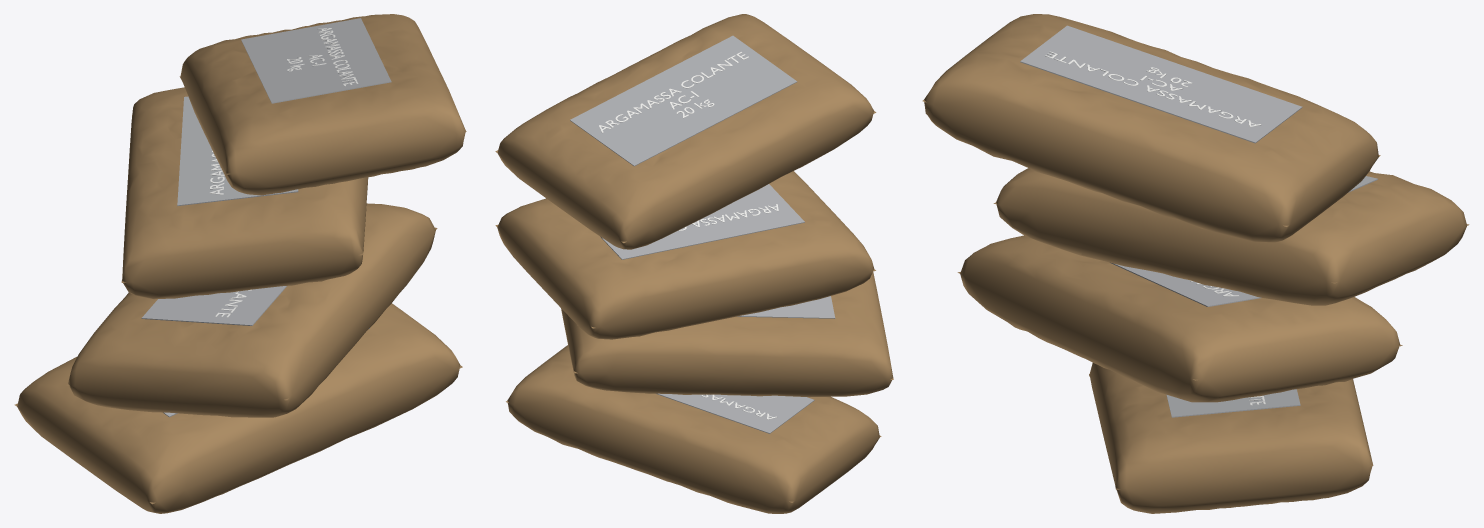
Rendered from REV-COL-001_anim.glb.
3 views of the same model, side by side, from view 1: azimuth 30°, elevation 25°; view 2: azimuth 150°, elevation 25°; view 3: azimuth 270°, elevation 25° (orthographic). The views are drawn at different scales.
Visible parts, largest first — view 1: REV-COL-001_anim3, REV-COL-001_anim1, REV-COL-001_anim0, REV-COL-001_anim2; view 2: REV-COL-001_anim3, REV-COL-001_anim2, REV-COL-001_anim0, REV-COL-001_anim1; view 3: REV-COL-001_anim3, REV-COL-001_anim1, REV-COL-001_anim2, REV-COL-001_anim0.
Boxes of the visible parts, box(x1,y1,x2,y2) form: REV-COL-001_anim3: box(179, 14, 466, 195); REV-COL-001_anim1: box(66, 203, 437, 417); REV-COL-001_anim0: box(14, 303, 462, 513); REV-COL-001_anim2: box(121, 87, 368, 299); REV-COL-001_anim3: box(495, 14, 876, 249); REV-COL-001_anim2: box(495, 171, 875, 339); REV-COL-001_anim0: box(506, 345, 881, 513); REV-COL-001_anim1: box(561, 271, 893, 397); REV-COL-001_anim3: box(922, 14, 1380, 242); REV-COL-001_anim1: box(957, 235, 1402, 402); REV-COL-001_anim2: box(993, 168, 1469, 305); REV-COL-001_anim0: box(1089, 363, 1373, 513).
Size of the model in its own units: 0.6057 by 0.5971 by 0.6603.
Materials: 3 (1 with a texture image).
